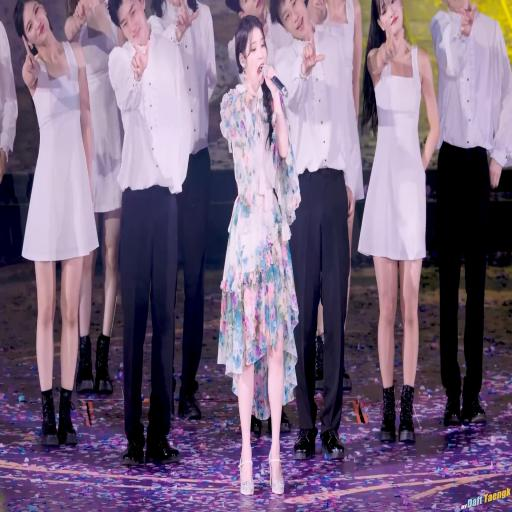IU: (234, 14, 268, 89)
